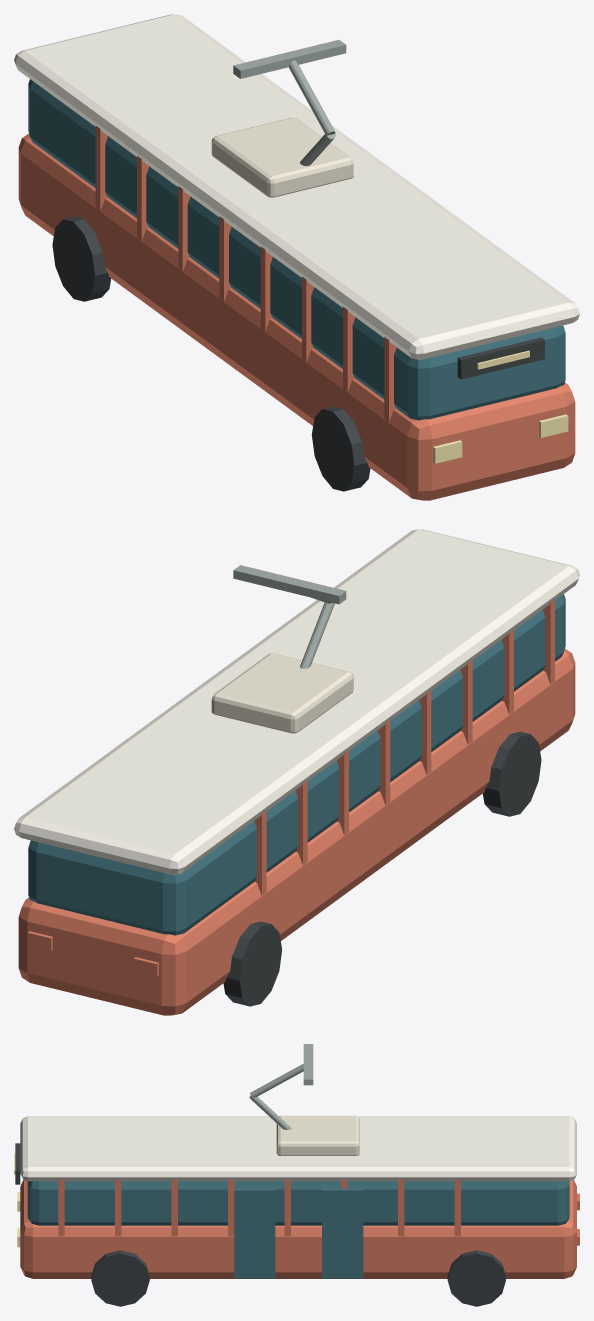
File: tram.glb
3 views of the same model, one above another, from view 1: azimuth 30°, elevation 25°; view 2: azimuth 150°, elevation 25°; view 3: azimuth 270°, elevation 25° (orthographic). The views are drawn at different scales.
Parts seen in each view (by area): view 1: tram; view 2: tram; view 3: tram.
Part boxes in pixels (<box>): tram: <box>14,14,579,500</box>; tram: <box>14,529,579,1015</box>; tram: <box>14,1044,579,1306</box>.
Size of the model in its own units: 1.52 by 2.41 by 5.79.
